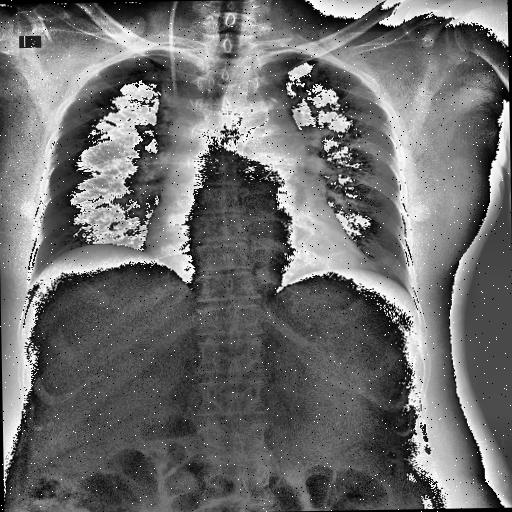0- Aortic enlargement: (226, 94, 308, 162), (228, 94, 300, 144), (250, 100, 296, 133)
13- Pulmonary fibrosis: (81, 92, 90, 100)
3- Cardiomegaly: (146, 213, 366, 290), (142, 199, 367, 273), (146, 217, 368, 272)
9- Other lesion: (159, 88, 214, 202)
